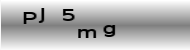5: (61, 8, 75, 22)
J: (37, 5, 44, 24)
P: (21, 11, 37, 25)
g: (102, 24, 116, 37)
m: (76, 28, 96, 39)
